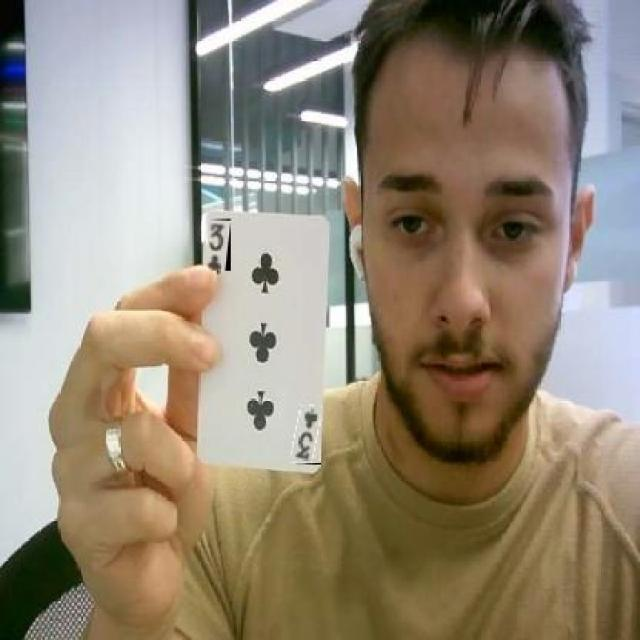3C: (292, 406, 320, 465), (208, 218, 230, 271)
